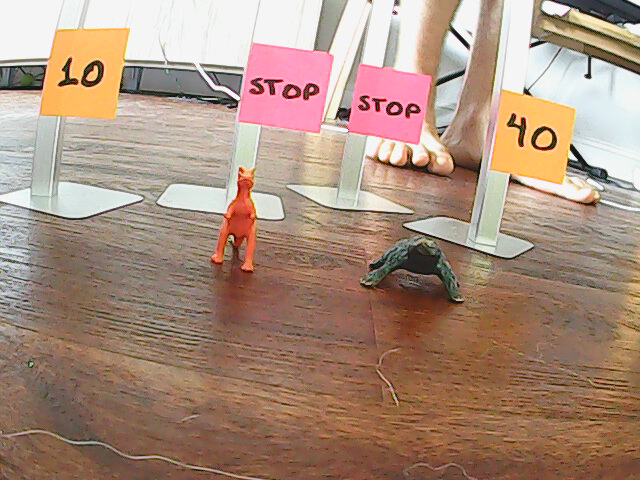10: (48, 33, 120, 115)
40: (502, 104, 564, 177)
dinosaur: (204, 164, 262, 275)
stop: (247, 56, 323, 121), (357, 75, 424, 130)
turtle: (353, 232, 469, 307)
